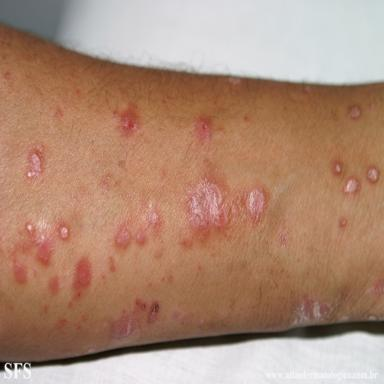Psoriasis: (187, 177, 229, 240), (12, 223, 53, 283), (111, 297, 160, 339), (292, 297, 348, 326), (245, 188, 267, 224), (114, 104, 138, 134), (25, 145, 44, 180), (194, 115, 212, 143), (115, 224, 131, 248), (277, 228, 291, 248), (371, 277, 384, 296), (344, 179, 359, 195), (135, 227, 146, 245), (179, 234, 194, 247), (49, 276, 59, 295), (101, 172, 111, 191), (349, 105, 361, 120), (367, 168, 379, 182), (332, 161, 343, 175), (149, 212, 159, 224), (108, 256, 115, 272), (56, 318, 67, 328), (60, 226, 68, 239), (228, 77, 241, 85), (339, 217, 347, 228), (367, 315, 380, 321), (173, 311, 181, 320), (196, 318, 203, 325), (43, 305, 49, 313)
